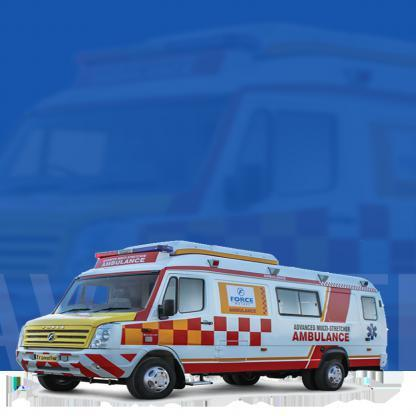Ambulance - v1 Ambulance last generate: (20, 237, 392, 395)
